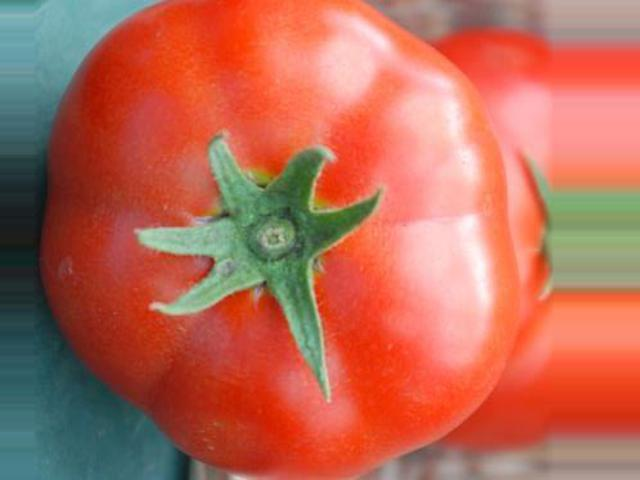tomato: (41, 1, 519, 480)
